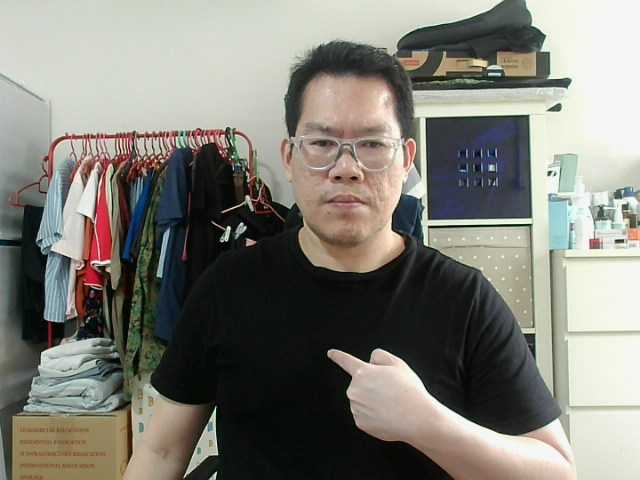I: (332, 352, 416, 422)
